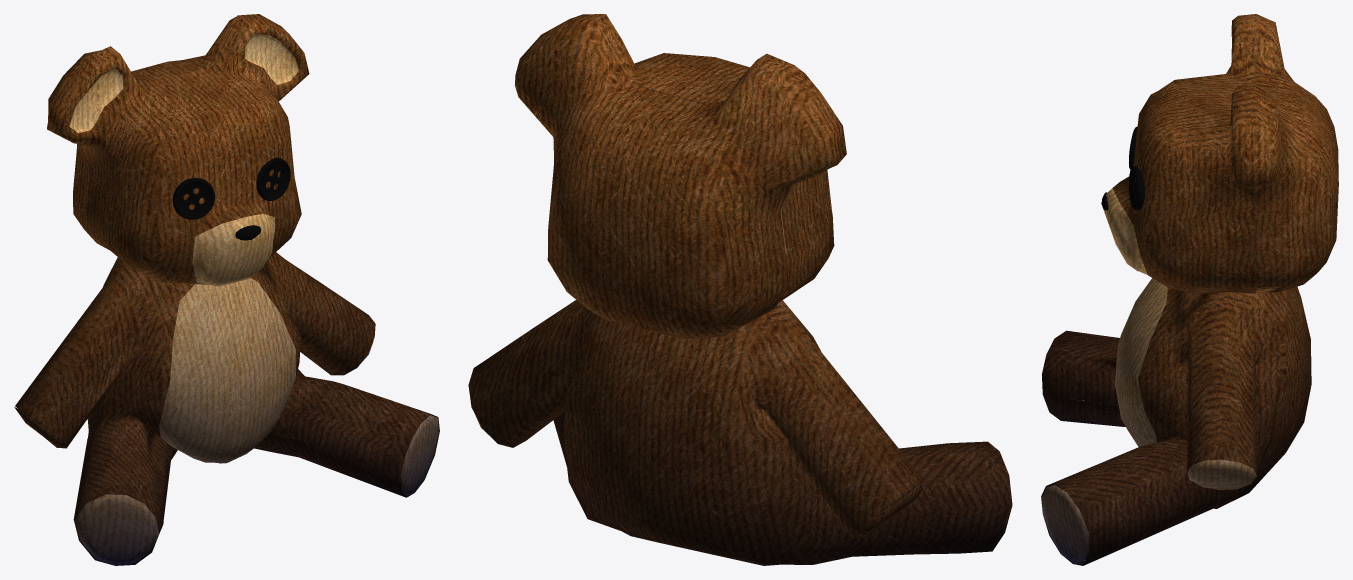
File: SM_PropTeddyBear.fbx
The picture shows the model from 3 angles, left to right: view 1: azimuth 30°, elevation 25°; view 2: azimuth 150°, elevation 25°; view 3: azimuth 270°, elevation 25°; orthographic projection. The views are drawn at different scales.
Visible parts, largest first — view 1: teddybearShape_lambert2_0, teddybearShape_lambert3_0, teddybearShape_phong1_0; view 2: teddybearShape_lambert2_0; view 3: teddybearShape_lambert2_0, teddybearShape_lambert3_0, teddybearShape_phong1_0.
Part boxes in pixels (x1=…): teddybearShape_lambert2_0: x1=14, y1=14, x2=439, y2=565; teddybearShape_lambert3_0: x1=69, y1=34, x2=439, y2=565; teddybearShape_phong1_0: x1=173, y1=157, x2=290, y2=219; teddybearShape_lambert2_0: x1=468, y1=14, x2=1012, y2=565; teddybearShape_lambert2_0: x1=1041, y1=14, x2=1338, y2=565; teddybearShape_lambert3_0: x1=1042, y1=188, x2=1256, y2=563; teddybearShape_phong1_0: x1=1129, y1=126, x2=1144, y2=210.
Bounding box in the file's own units: 2.26 × 2.55 × 1.57.
Materials: 4 (4 with a texture image).
